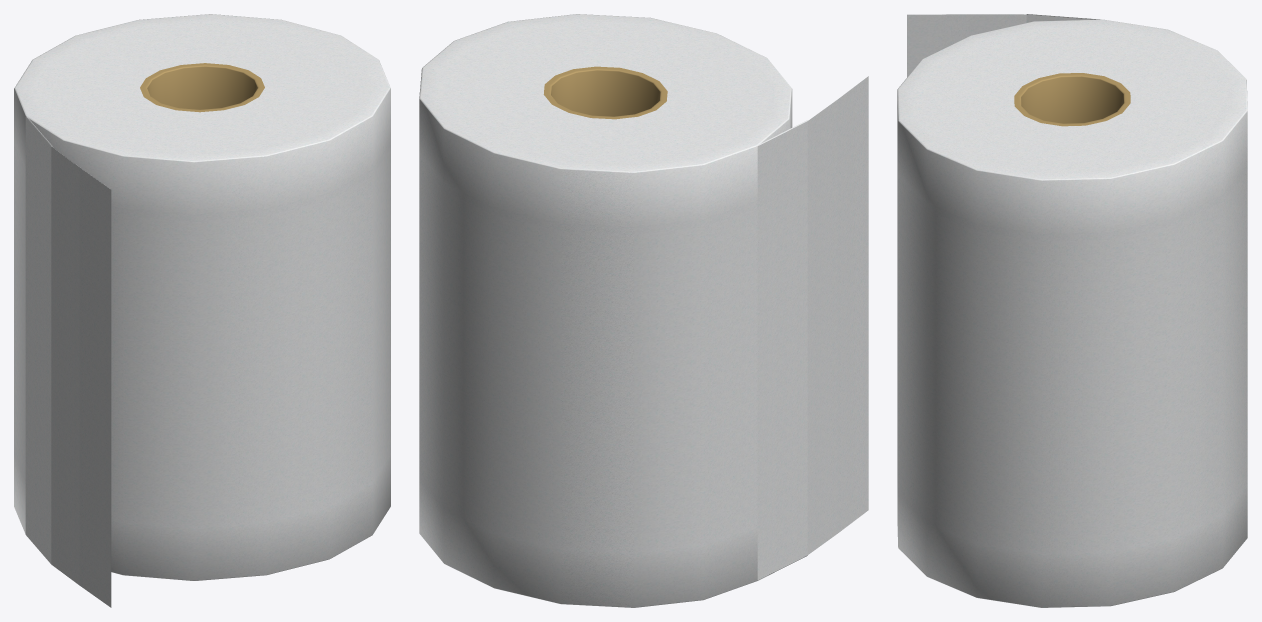
File: partial roll with trail toilet paper.FBX
3 views of the same model, side by side, from view 1: azimuth 30°, elevation 25°; view 2: azimuth 150°, elevation 25°; view 3: azimuth 270°, elevation 25° (orthographic). The views are drawn at different scales.
Parts seen in each view (by area): view 1: Cylinder005; view 2: Cylinder005; view 3: Cylinder005.
Boxes of the visible parts, x1=… form: Cylinder005: x1=14, y1=14, x2=390, y2=607; Cylinder005: x1=419, y1=14, x2=868, y2=607; Cylinder005: x1=897, y1=14, x2=1247, y2=607.
Size of the model in its own units: 25.02 by 30 by 22.25.
2 materials, 2 textured.
